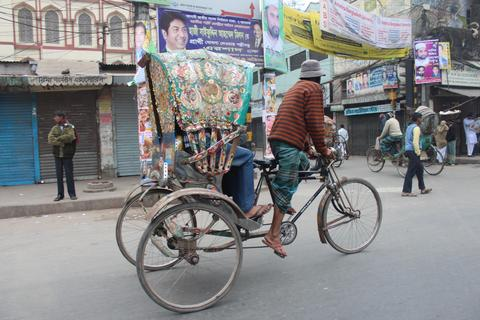Rickshaw: (123, 49, 372, 309), (388, 100, 443, 175)
